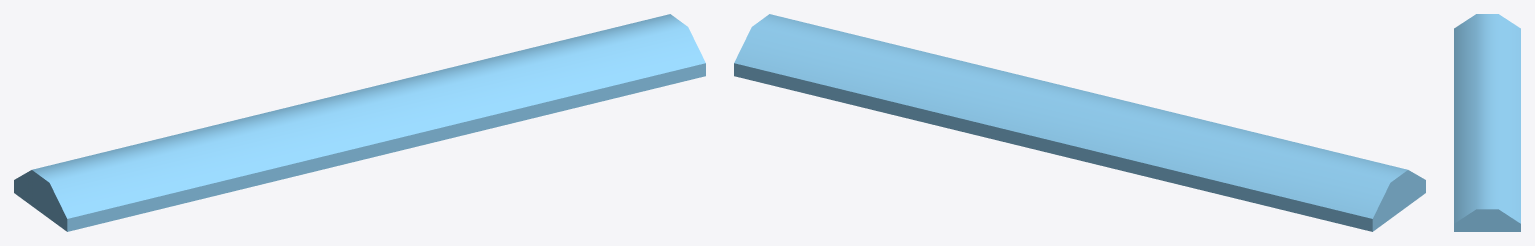
The model's file is Neon.FBX.
3 renders of one model, left to right at view 1: azimuth 30°, elevation 25°; view 2: azimuth 150°, elevation 25°; view 3: azimuth 270°, elevation 25°, orthographic. The views are drawn at different scales.
Parts seen in each view (by area): view 1: Box010; view 2: Box010; view 3: Box010.
Part boxes in pixels (x1,y1,x2,y2): Box010: (14, 14, 705, 231); Box010: (734, 14, 1425, 231); Box010: (1454, 14, 1520, 231).
Size of the model in its own units: 0.0521 by 0.00752 by 0.00292.
